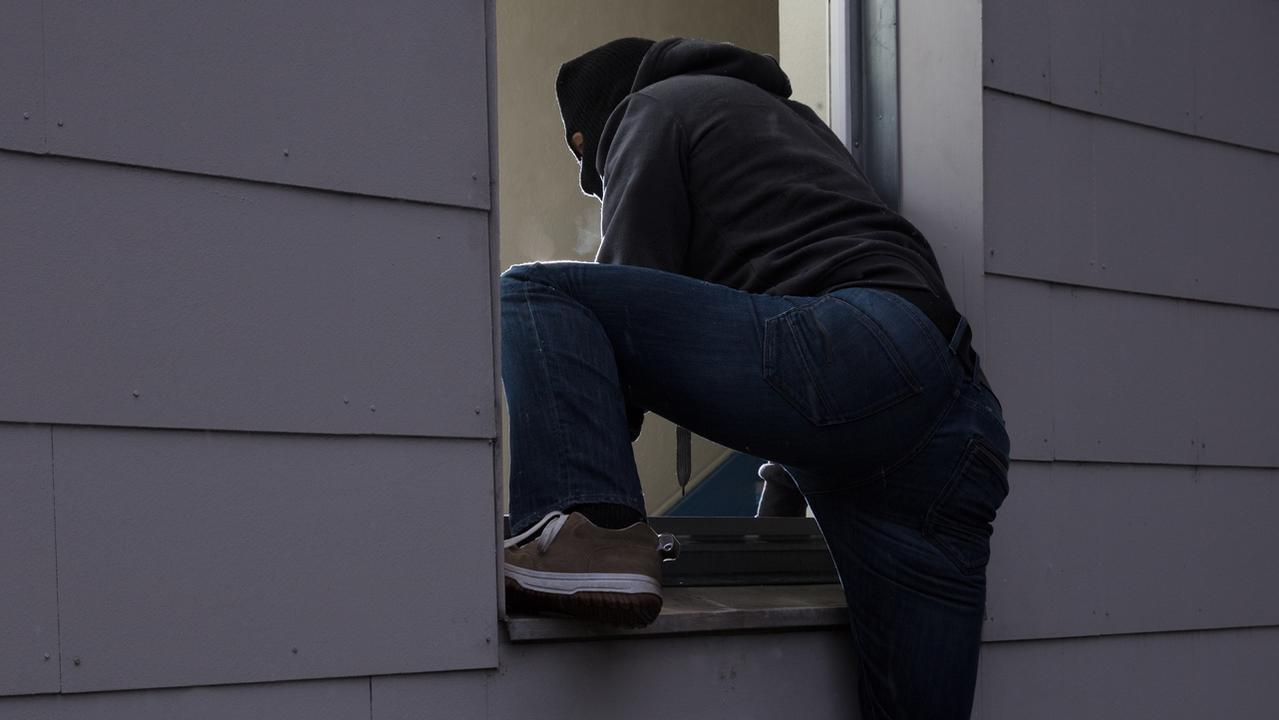thief: (468, 26, 1045, 638)
